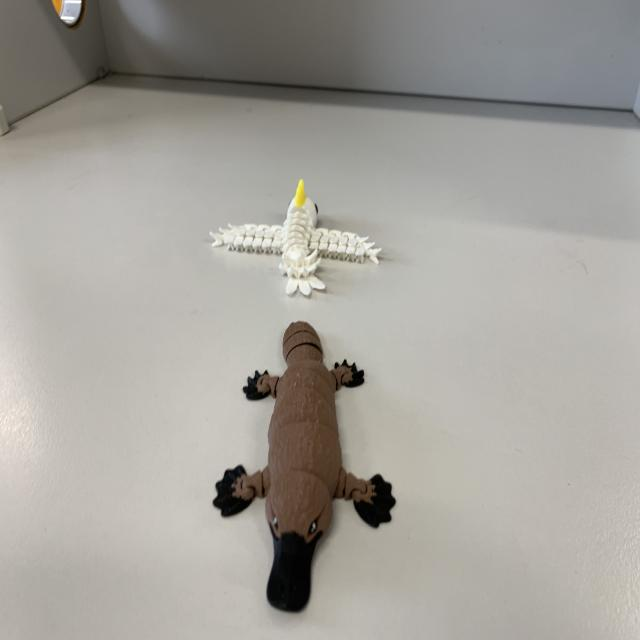cockatoo: (199, 180, 387, 303)
platypus: (191, 310, 423, 630)
